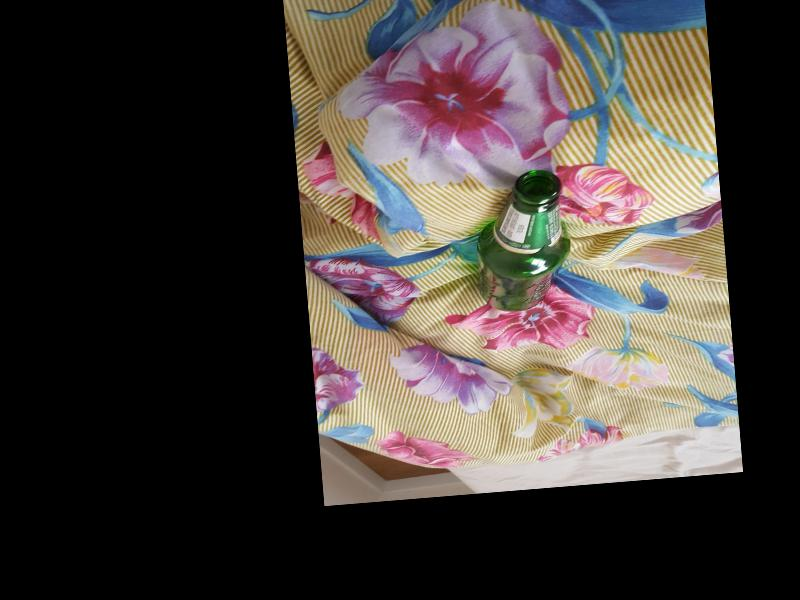Beer: (474, 168, 574, 313)
